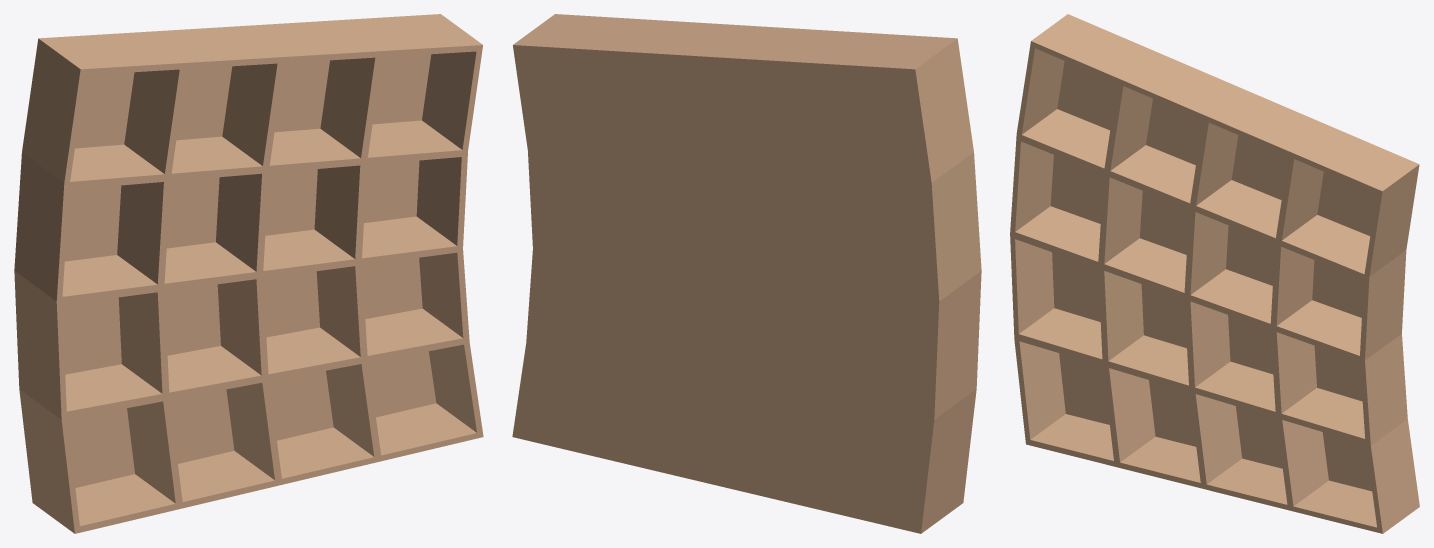
Rendered from EtagereCasesCartoon.fbx.
The picture shows the model from 3 angles, left to right: view 1: azimuth 30°, elevation 25°; view 2: azimuth 150°, elevation 25°; view 3: azimuth 330°, elevation 25°; orthographic projection. The views are drawn at different scales.
Visible parts, largest first — view 1: Etagere1; view 2: Etagere1; view 3: Etagere1.
Part boxes in pixels (x1,y1,x2,y2): Etagere1: (14, 14, 483, 533); Etagere1: (512, 14, 981, 533); Etagere1: (1010, 14, 1419, 533).
Bounding box in the file's own units: 147 × 154 × 25.32.
